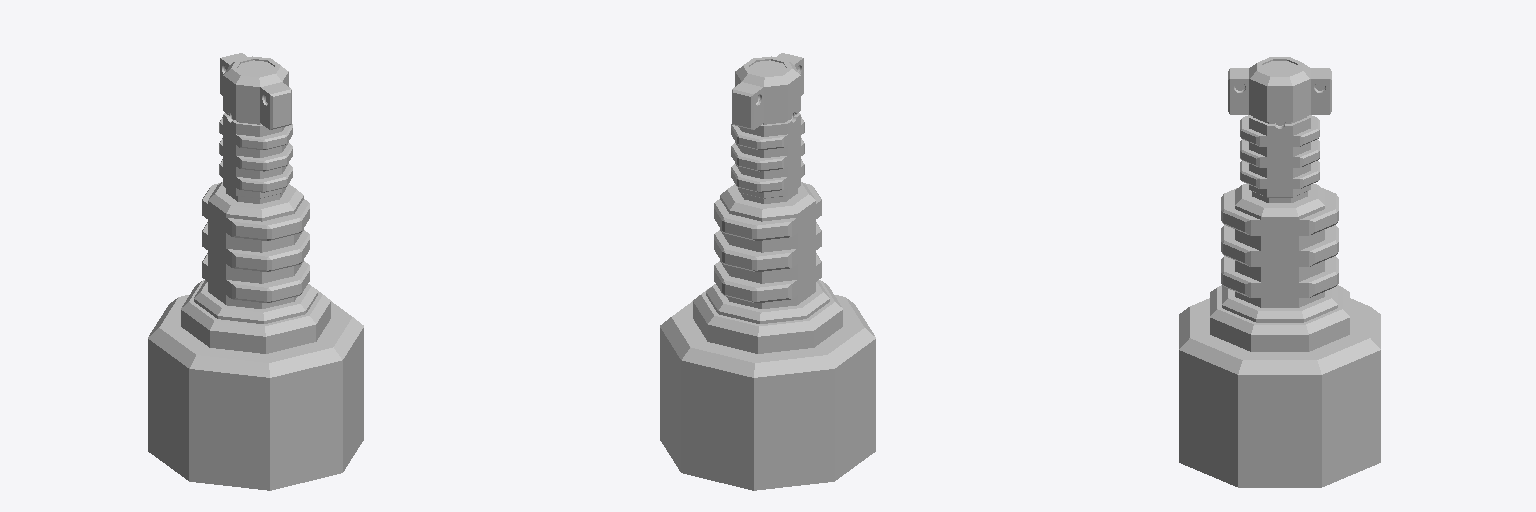
Rendered from OBELISK1.obj.
3 views of the same model, side by side, from view 1: azimuth 30°, elevation 25°; view 2: azimuth 150°, elevation 25°; view 3: azimuth 270°, elevation 25° (orthographic).
Parts seen in each view (by area): view 1: Gear.005; view 2: Gear.005; view 3: Gear.005.
Boxes of the visible parts, x1=… form: Gear.005: x1=148, y1=53, x2=363, y2=490; Gear.005: x1=660, y1=53, x2=875, y2=490; Gear.005: x1=1179, y1=57, x2=1380, y2=487.
Size of the model in its own units: 3.22 by 6.64 by 3.22.